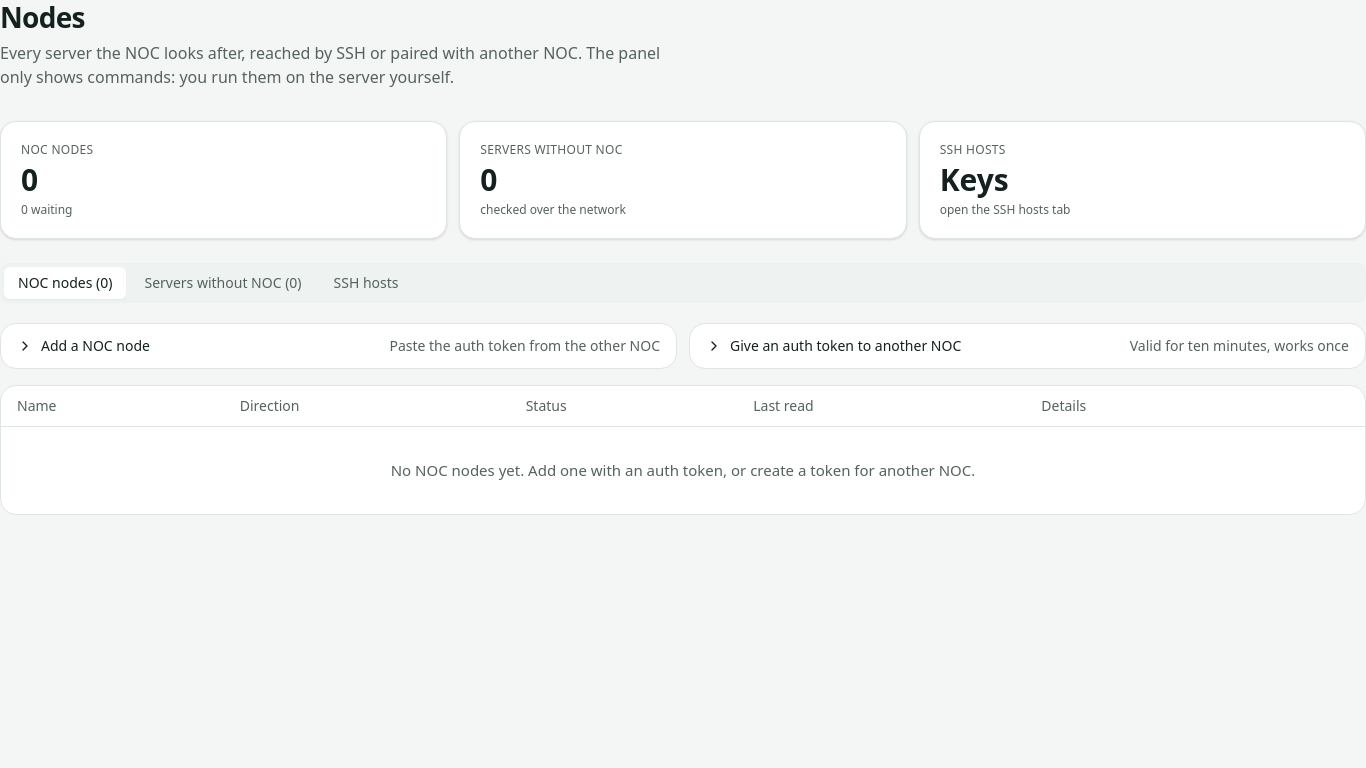
Test case: FleetPage › lists monitored targets and added servers with their status
The width and height of the screenshot is (1366, 768).
Press the mouse on the tab "SSH hosts" at (366, 283), box [320, 267, 413, 299]
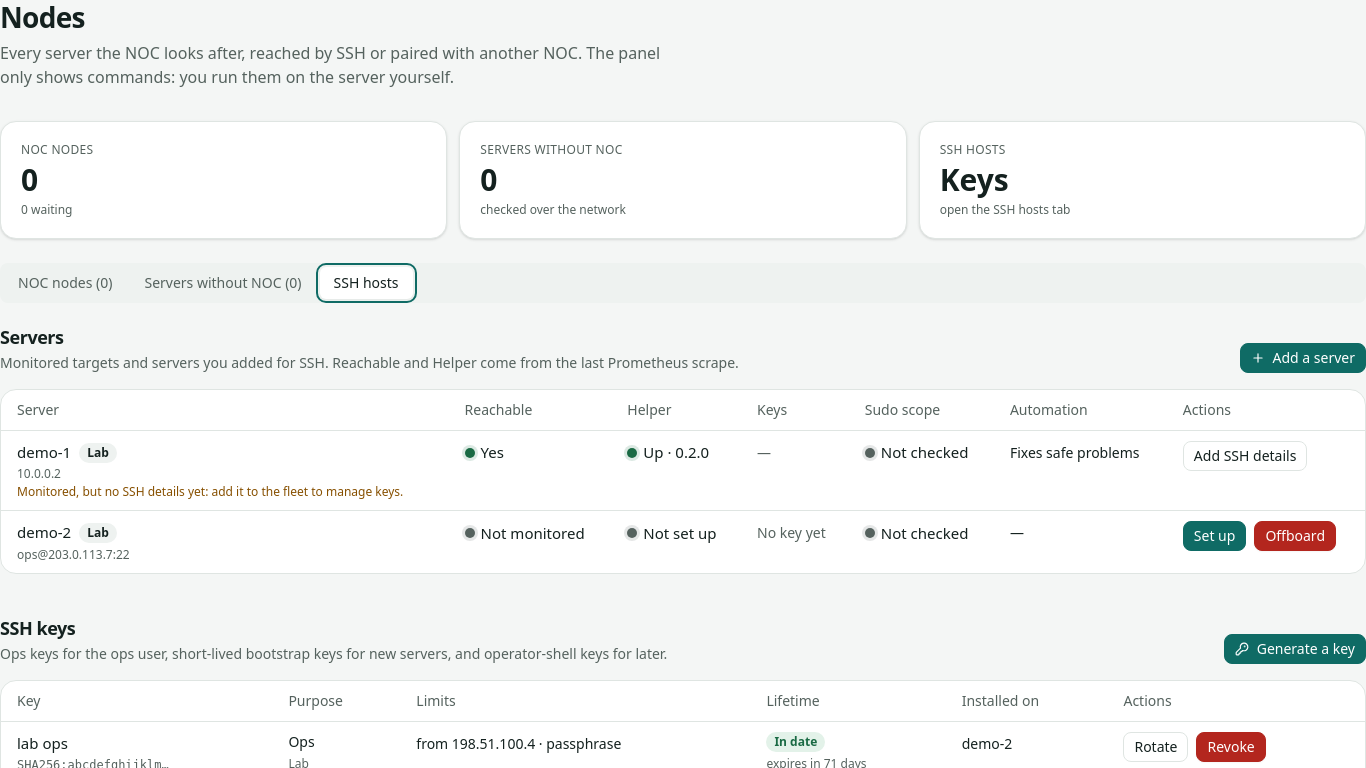
Result: the text "Up · 0.2.0" is shown at [643, 441, 709, 465]
Result: the text "ops@203.0.113.7:22" is shown at [17, 546, 130, 562]
Result: the button with aria-label "Add SSH details for demo-1" is shown at [1183, 441, 1307, 471]
